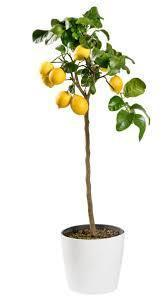lemon: (71, 95, 88, 115), (74, 44, 90, 60), (49, 68, 65, 84), (56, 91, 71, 108), (109, 76, 123, 94), (39, 61, 54, 76), (42, 73, 54, 88)
